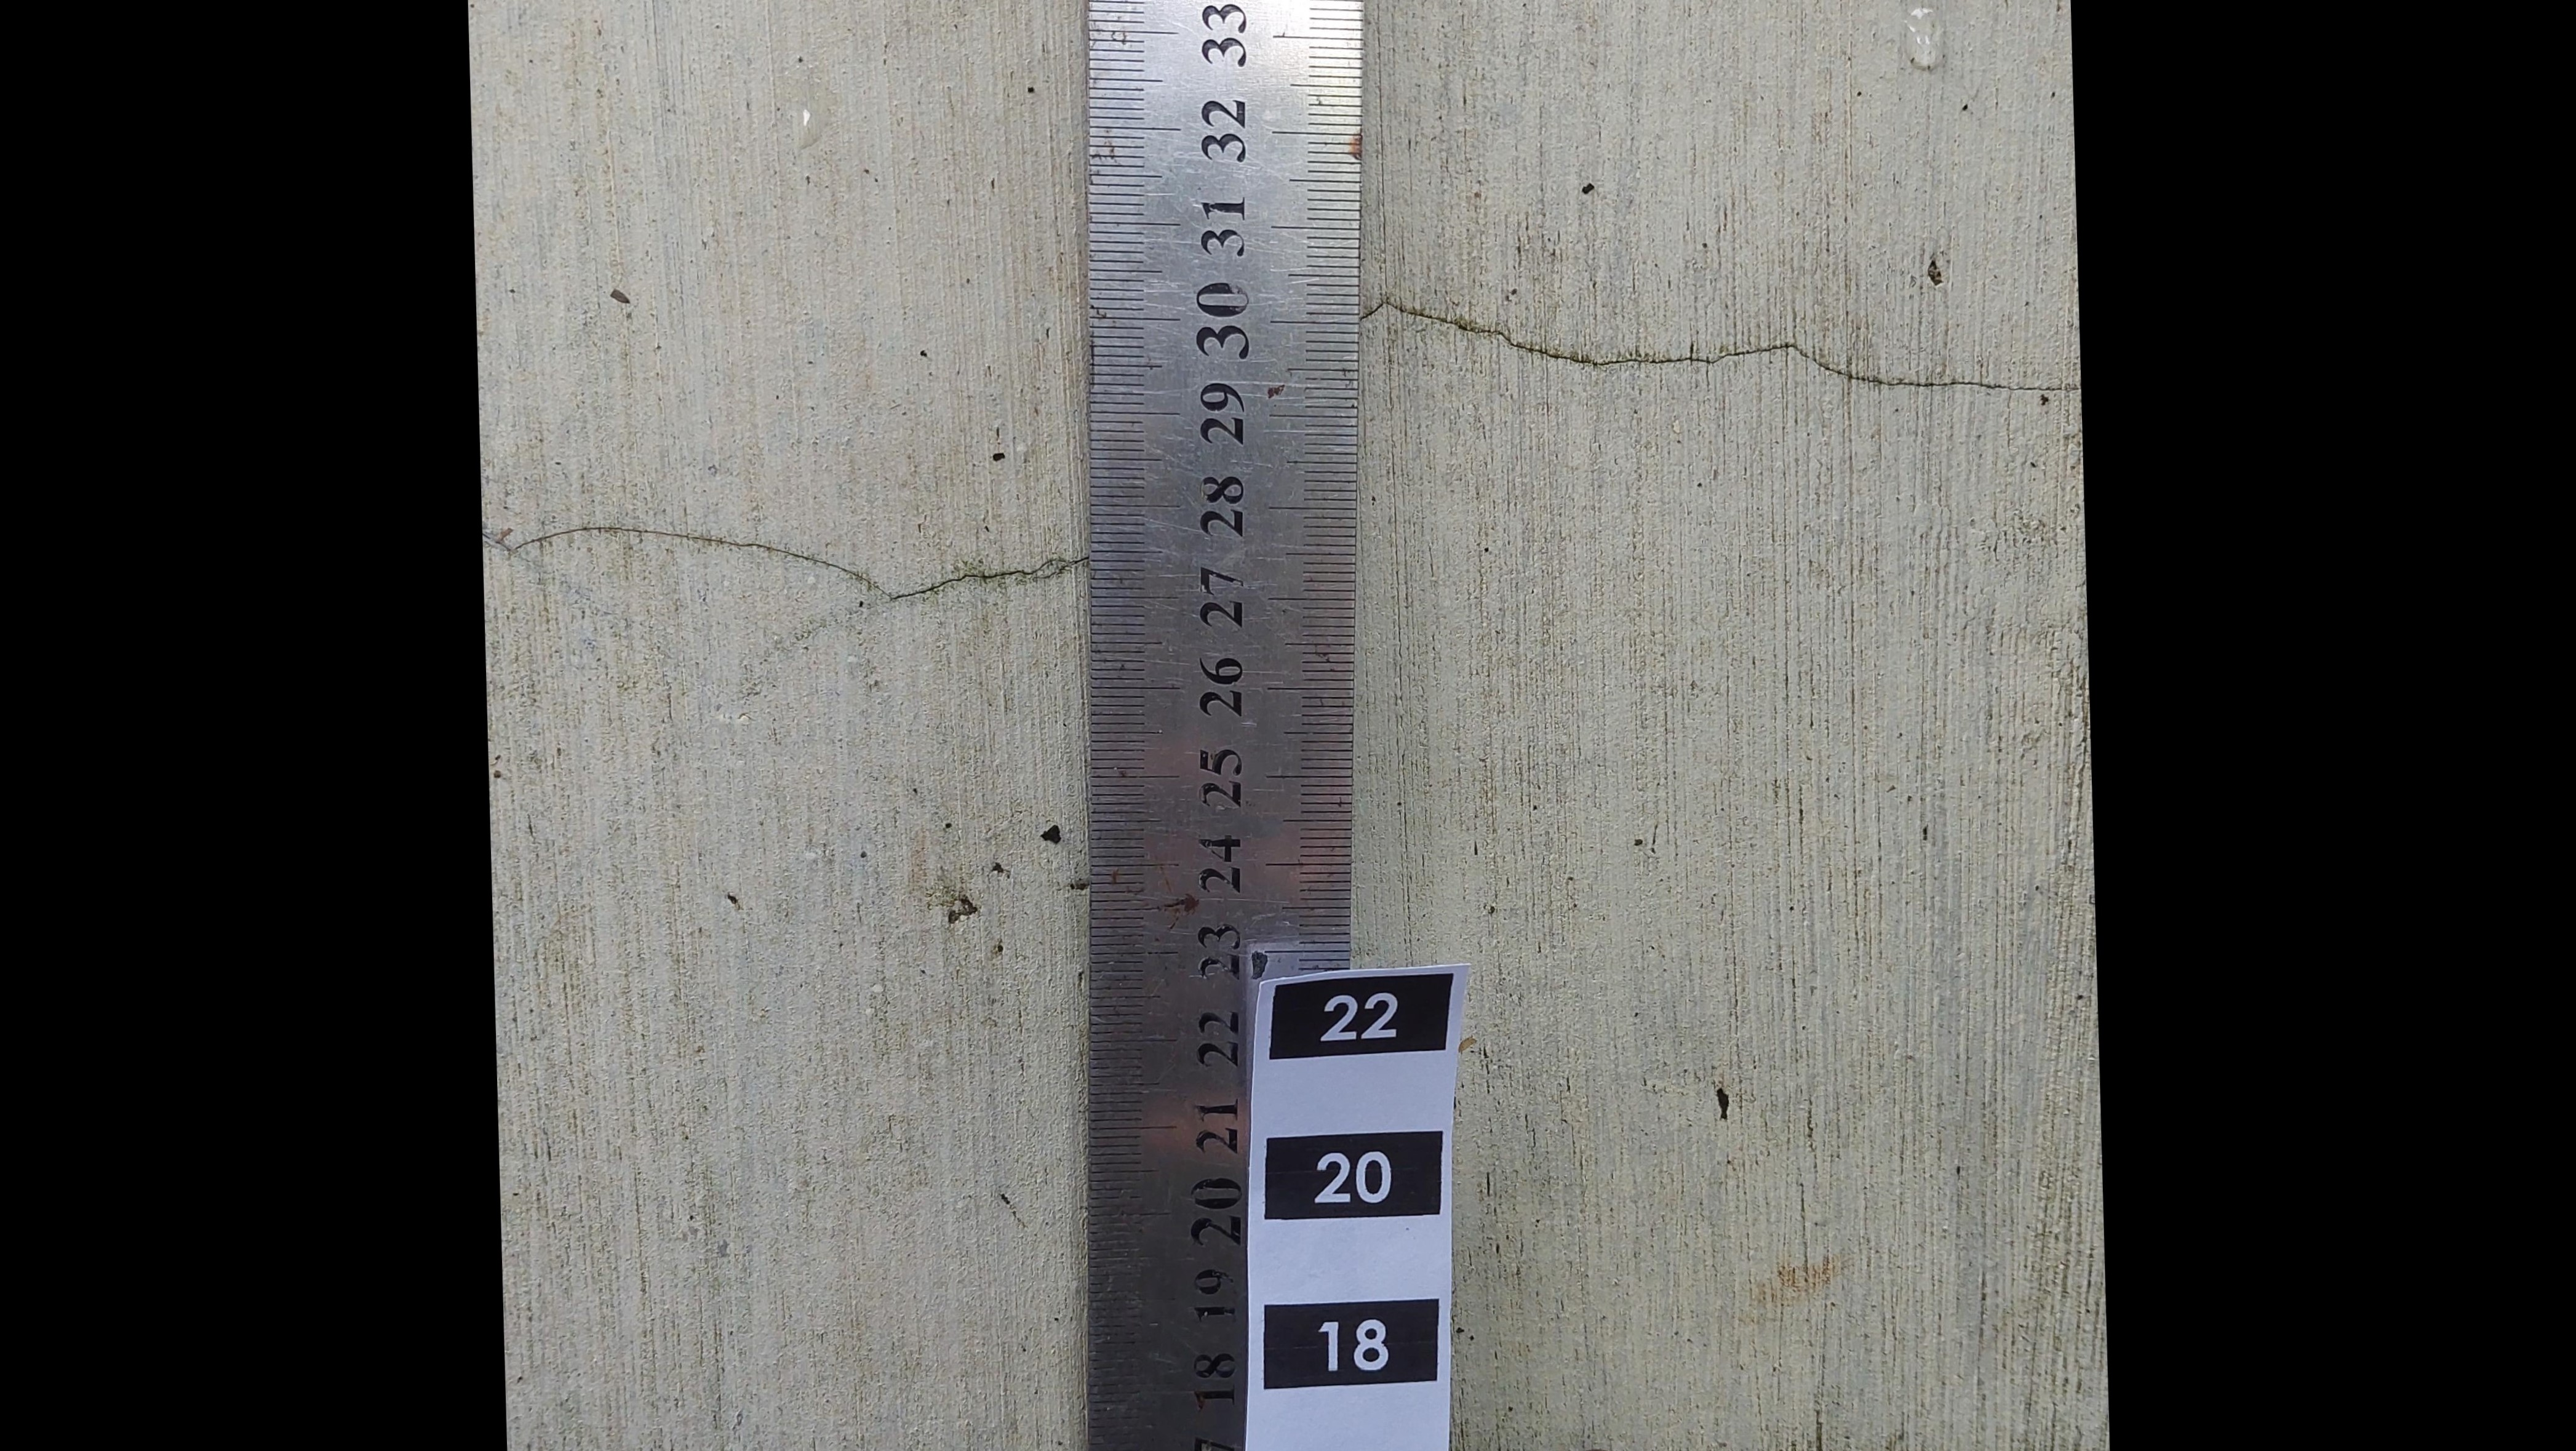kotak_2x1: (1267, 1136, 1438, 1221), (1263, 1306, 1437, 1389), (1270, 979, 1445, 1055)
